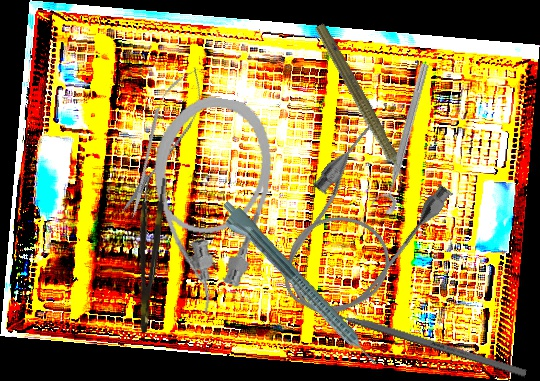Cannula: (251, 111, 462, 340), (130, 88, 284, 321)
Fixation Ring: (368, 59, 434, 216)
Handpiece: (212, 197, 382, 376), (308, 20, 417, 194)
Micro Scissor: (109, 59, 215, 225)
Pusher: (303, 301, 528, 378)
Tissue Forceps: (126, 175, 168, 334)
